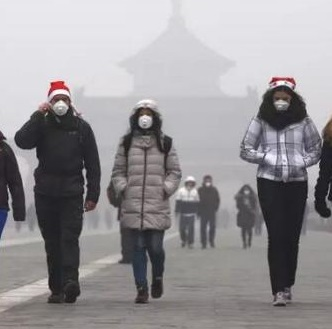person: (13, 78, 103, 308), (238, 73, 323, 310), (105, 94, 178, 307), (173, 173, 203, 253), (195, 172, 225, 250), (232, 182, 262, 251), (300, 202, 310, 237), (25, 204, 37, 231), (103, 207, 113, 230), (254, 211, 263, 236), (91, 209, 100, 229)
